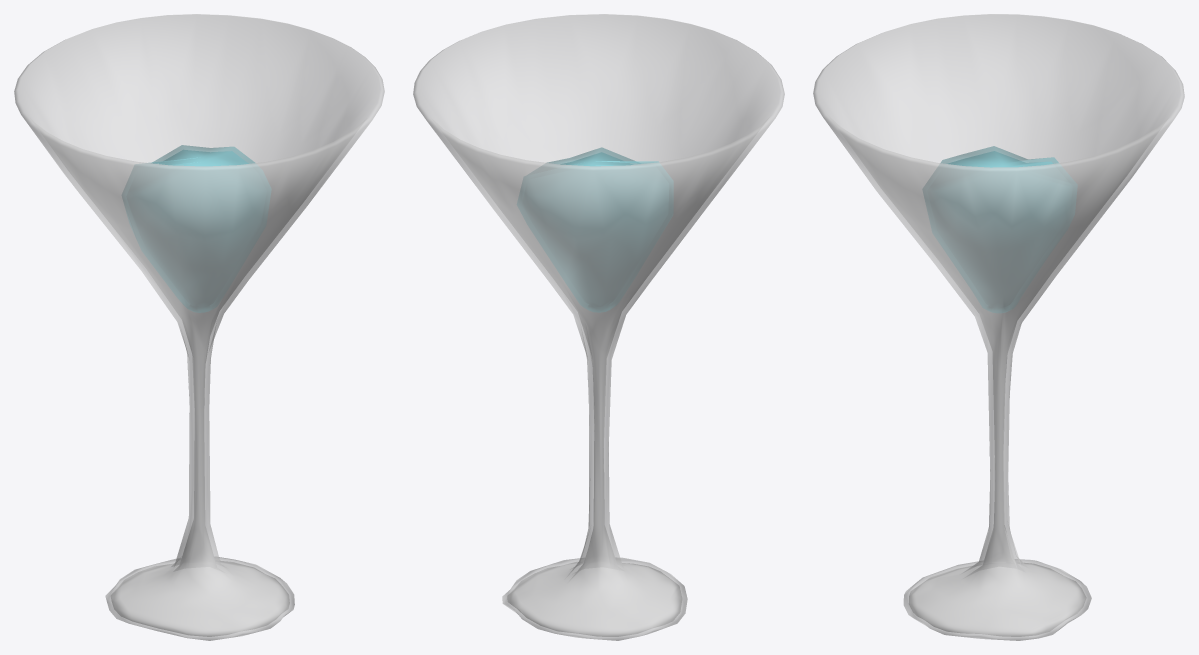
File: 2_mavikokteyl.fbx
The picture shows the model from 3 angles, left to right: view 1: azimuth 30°, elevation 25°; view 2: azimuth 150°, elevation 25°; view 3: azimuth 270°, elevation 25°; orthographic projection.
Visible parts, largest first — view 1: Cylinder.008; view 2: Cylinder.008; view 3: Cylinder.008.
Part boxes in pixels (<box>): Cylinder.008: <box>14,14,384,640</box>; Cylinder.008: <box>413,14,784,640</box>; Cylinder.008: <box>813,14,1184,640</box>.
Size of the model in its own units: 425 by 651 by 425.
